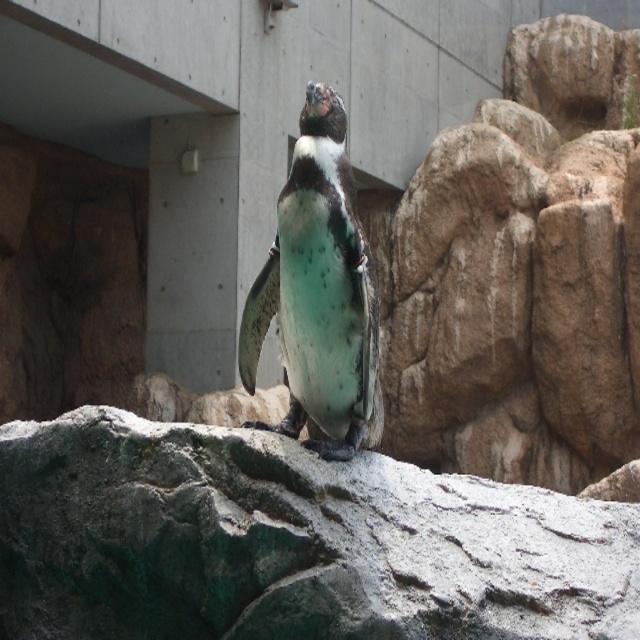Penguin: (236, 76, 388, 465)
